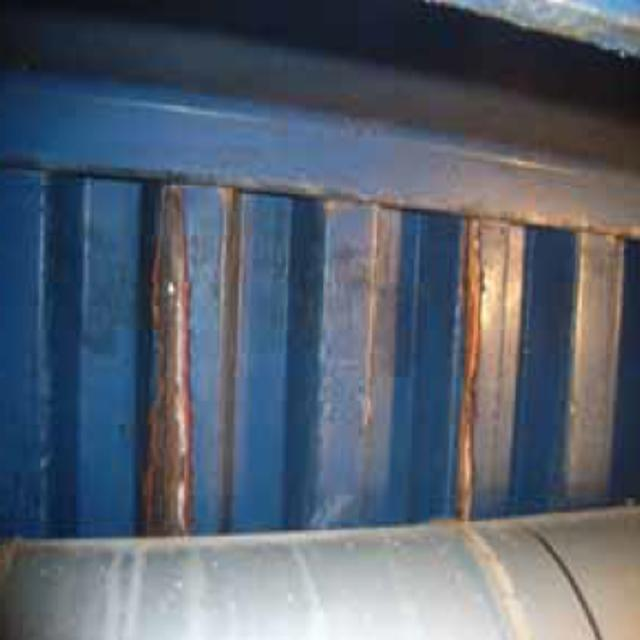corrosion: (142, 179, 248, 544), (436, 188, 490, 538)
